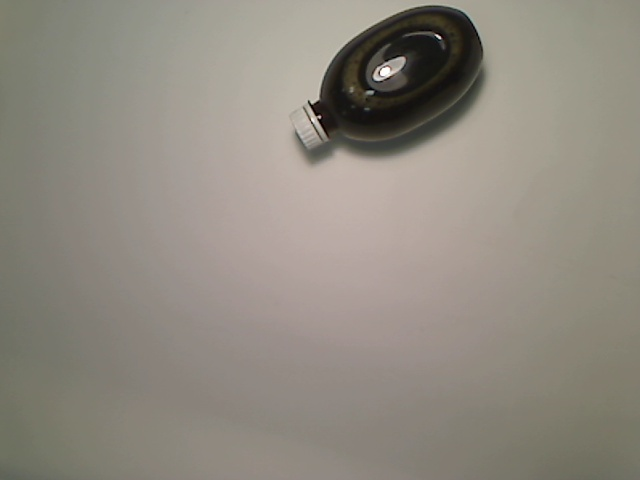plast_bottle: (287, 3, 486, 152)
